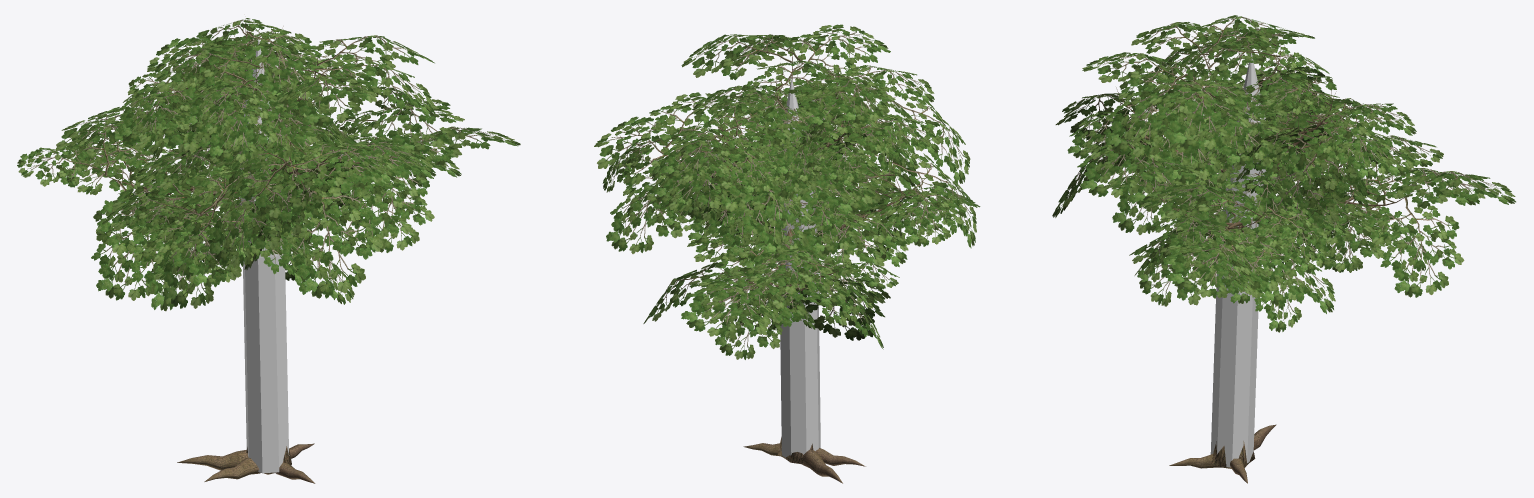
File: tree_1.dae
3 views of the same model, side by side, from view 1: azimuth 30°, elevation 25°; view 2: azimuth 150°, elevation 25°; view 3: azimuth 270°, elevation 25° (orthographic). The views are drawn at different scales.
Parts seen in each view (by area): view 1: Leafs_L, Leafs_reverse_L, Volume_L, Bark_L; view 2: Leafs_L, Leafs_reverse_L, Volume_L, Bark_L; view 3: Leafs_L, Leafs_reverse_L, Volume_L, Bark_L.
Part boxes in pixels (x1=…): Leafs_L: x1=17, y1=18, x2=520, y2=310; Leafs_reverse_L: x1=17, y1=18, x2=520, y2=311; Volume_L: x1=239, y1=39, x2=289, y2=473; Bark_L: x1=89, y1=18, x2=392, y2=483; Leafs_L: x1=594, y1=24, x2=979, y2=359; Leafs_reverse_L: x1=594, y1=25, x2=979, y2=359; Volume_L: x1=779, y1=78, x2=820, y2=457; Bark_L: x1=656, y1=45, x2=926, y2=483; Leafs_L: x1=1052, y1=15, x2=1515, y2=331; Leafs_reverse_L: x1=1052, y1=15, x2=1515, y2=332; Volume_L: x1=1210, y1=53, x2=1266, y2=467; Bark_L: x1=1110, y1=27, x2=1410, y2=483.
Size of the model in its own units: 10.88 by 10.75 by 10.53.
Materials: 2 (2 with a texture image).
